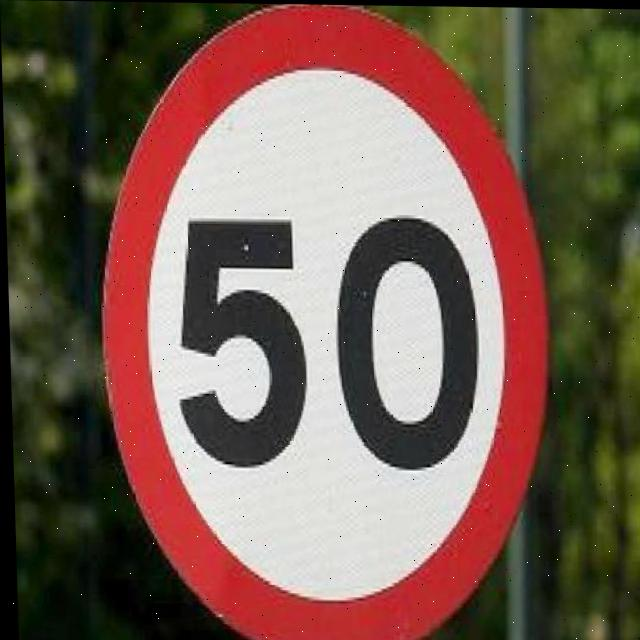Speed limit 50: (88, 2, 560, 640)
